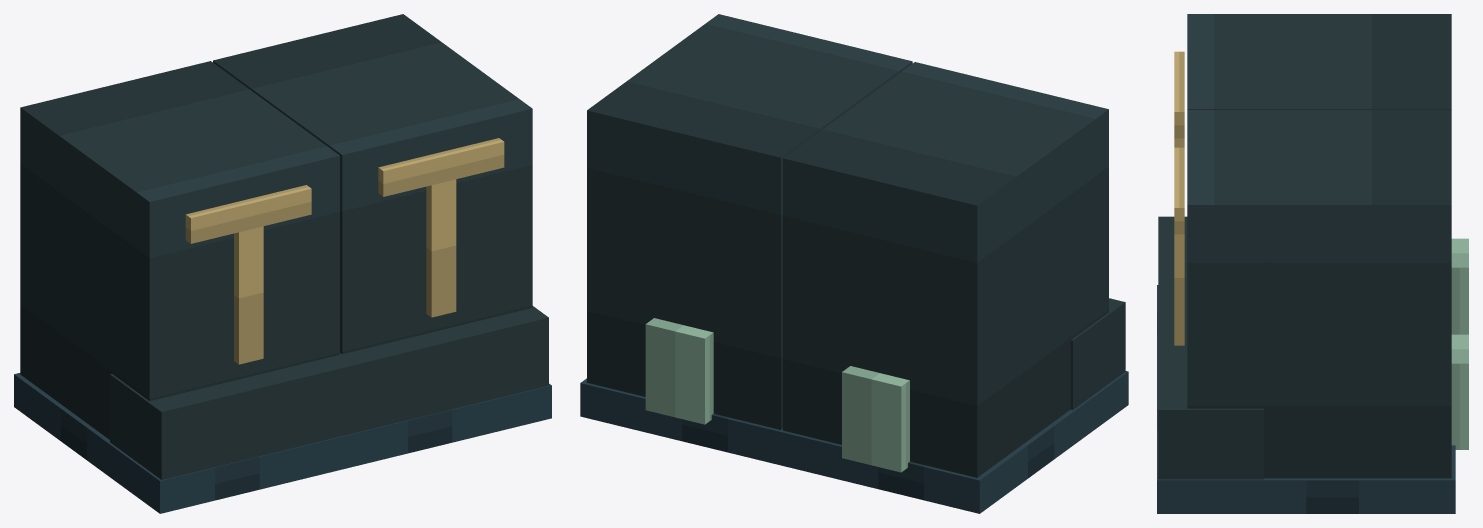
The model's file is huashen_xuanji_boots.obj.
The picture shows the model from 3 angles, left to right: view 1: azimuth 30°, elevation 25°; view 2: azimuth 150°, elevation 25°; view 3: azimuth 270°, elevation 25°; orthographic projection. The views are drawn at different scales.
Parts seen in each view (by area): view 1: court_boot_-1, court_boot_1, court_toe_-1, court_toe_1, court_sole_-1, court_sole_1, court_boot_axis_stem_1, court_boot_axis_stem_-1, court_boot_axis_top_-1, court_boot_axis_top_1; view 2: court_boot_-1, court_boot_1, court_sole_-1, court_heel_jade_1, court_heel_jade_-1, court_sole_1, court_toe_-1; view 3: court_boot_1, court_boot_-1, court_sole_1, court_toe_1, court_heel_jade_1, court_toe_-1, court_heel_jade_-1, court_boot_axis_stem_1, court_boot_axis_top_-1, court_boot_axis_top_1.
Boxes of the visible parts, x1,y1,x2,y2 form: court_boot_-1: (20, 61, 339, 439); court_boot_1: (213, 14, 532, 354); court_toe_-1: (110, 355, 356, 479); court_toe_1: (340, 306, 548, 432); court_sole_-1: (14, 373, 359, 513); court_sole_1: (352, 383, 551, 465); court_boot_axis_stem_1: (426, 179, 456, 317); court_boot_axis_stem_-1: (234, 226, 263, 364); court_boot_axis_top_-1: (185, 185, 311, 243); court_boot_axis_top_1: (378, 138, 504, 196); court_boot_-1: (783, 62, 1108, 477); court_boot_1: (587, 14, 912, 429); court_sole_-1: (776, 371, 1128, 513); court_heel_jade_1: (645, 318, 713, 424); court_heel_jade_-1: (842, 366, 909, 472); court_sole_1: (580, 378, 784, 464); court_toe_-1: (1070, 298, 1125, 409); court_boot_1: (1187, 110, 1451, 478); court_boot_-1: (1187, 14, 1451, 109); court_sole_1: (1157, 384, 1455, 513); court_toe_1: (1158, 312, 1263, 479); court_heel_jade_1: (1451, 334, 1468, 449); court_toe_-1: (1158, 216, 1187, 312); court_heel_jade_-1: (1451, 238, 1468, 334); court_boot_axis_stem_1: (1174, 234, 1184, 345); court_boot_axis_top_-1: (1174, 51, 1184, 138); court_boot_axis_top_1: (1174, 147, 1184, 234).
Size of the model in its own units: 0.5469 by 0.4 by 0.3688.
